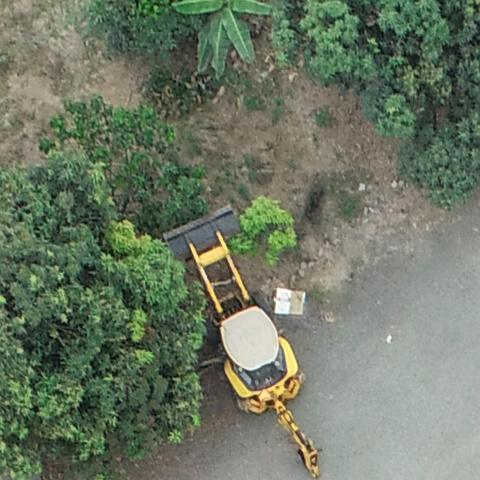Banana-plant: (171, 0, 275, 81)
